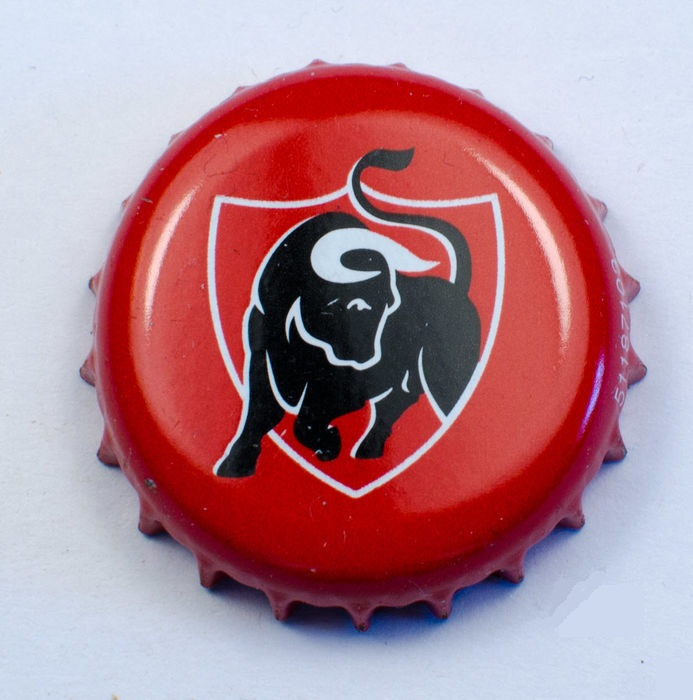jupiler: (78, 57, 654, 637)
